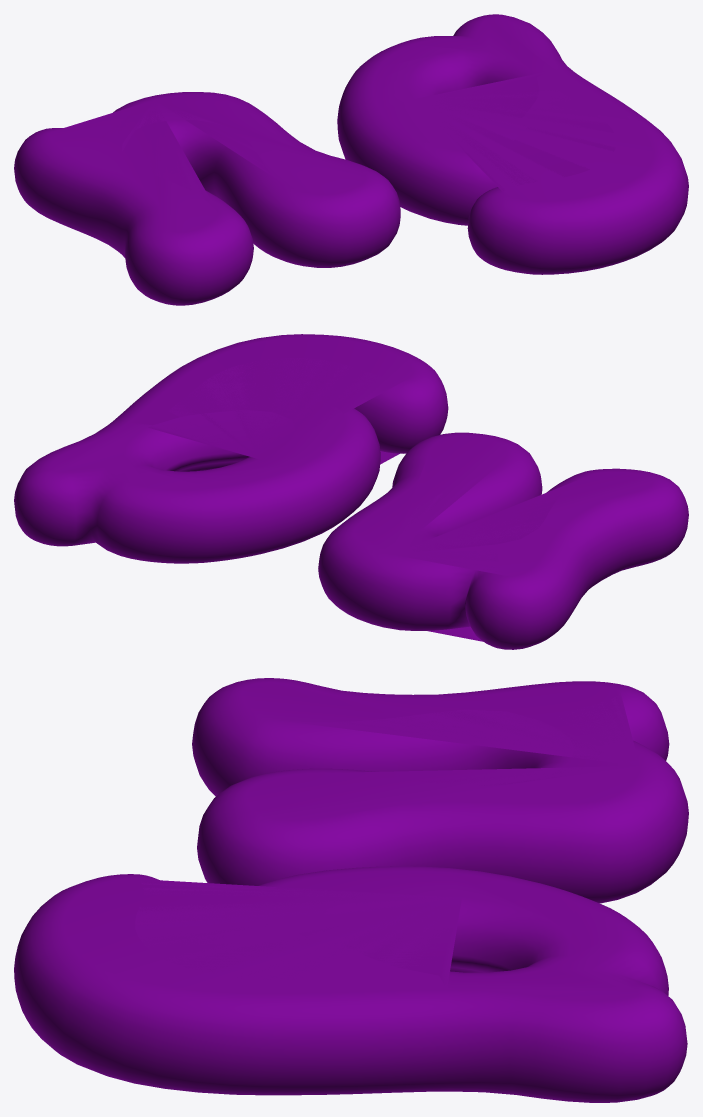
3 renders of one model, top to bottom at view 1: azimuth 30°, elevation 25°; view 2: azimuth 150°, elevation 25°; view 3: azimuth 270°, elevation 25°, orthographic. The views are drawn at different scales.
Parts seen in each view (by area): view 1: Curve.031, Curve.032; view 2: Curve.031, Curve.032; view 3: Curve.031, Curve.032.
Part boxes in pixels (x1,y1,x2,y2): Curve.031: [337, 14, 688, 274]; Curve.032: [14, 92, 400, 305]; Curve.031: [14, 334, 448, 563]; Curve.032: [318, 432, 688, 649]; Curve.031: [14, 866, 687, 1102]; Curve.032: [192, 678, 688, 903].
Size of the model in its own units: 411 by 51.57 by 325.
1 material, 1 textured.
